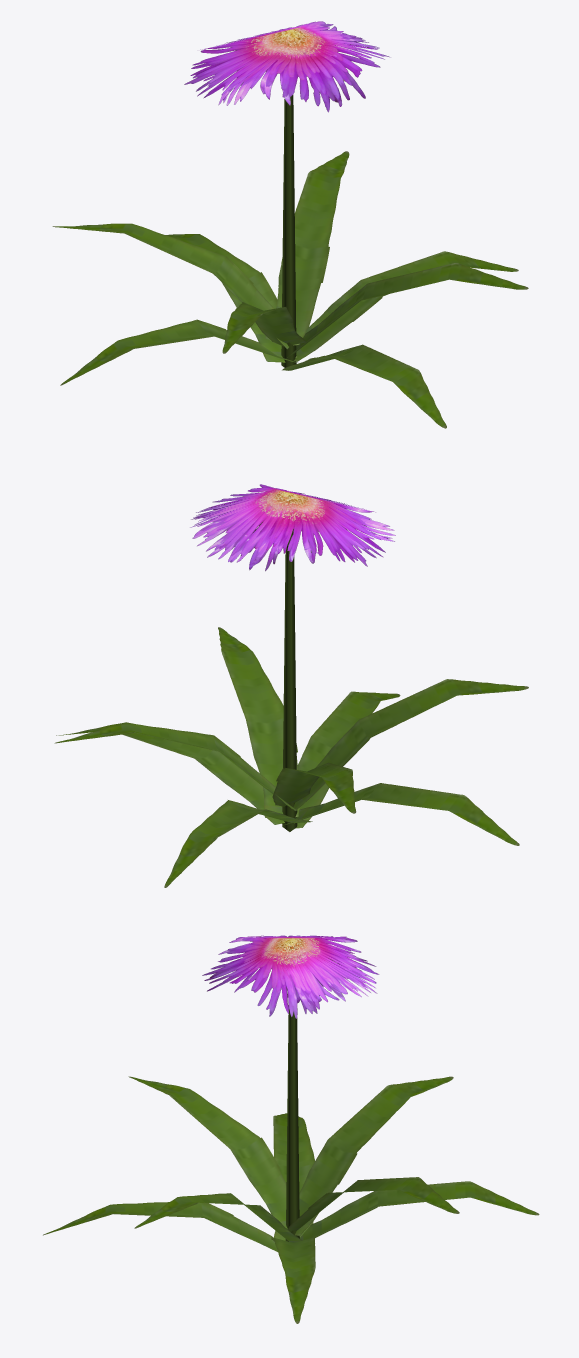
Rendered from flower plant8.FBX.
3 renders of one model, top to bottom at view 1: azimuth 30°, elevation 25°; view 2: azimuth 150°, elevation 25°; view 3: azimuth 270°, elevation 25°, orthographic. The views are drawn at different scales.
Visible parts, largest first — view 1: Cylinder001; view 2: Cylinder001; view 3: Cylinder001.
Boxes of the visible parts, box(x1,y1,x2,y2) form: Cylinder001: box(52, 21, 528, 428); Cylinder001: box(54, 484, 528, 887); Cylinder001: box(43, 935, 539, 1323).
Bounding box in the file's own units: 5.23 × 3.32 × 5.24.
